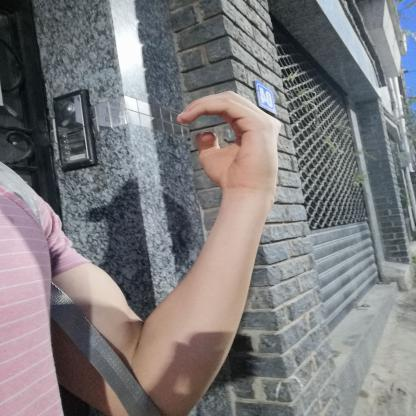JEEM: (163, 80, 294, 200)
